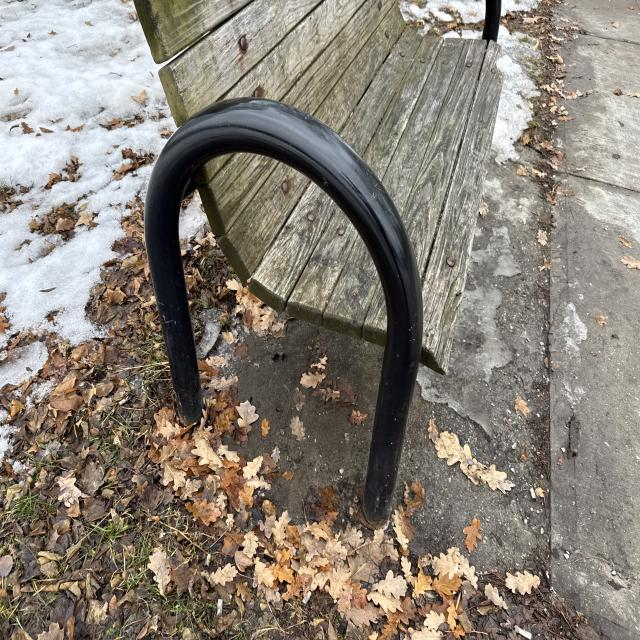Bench: (131, 0, 502, 498)
